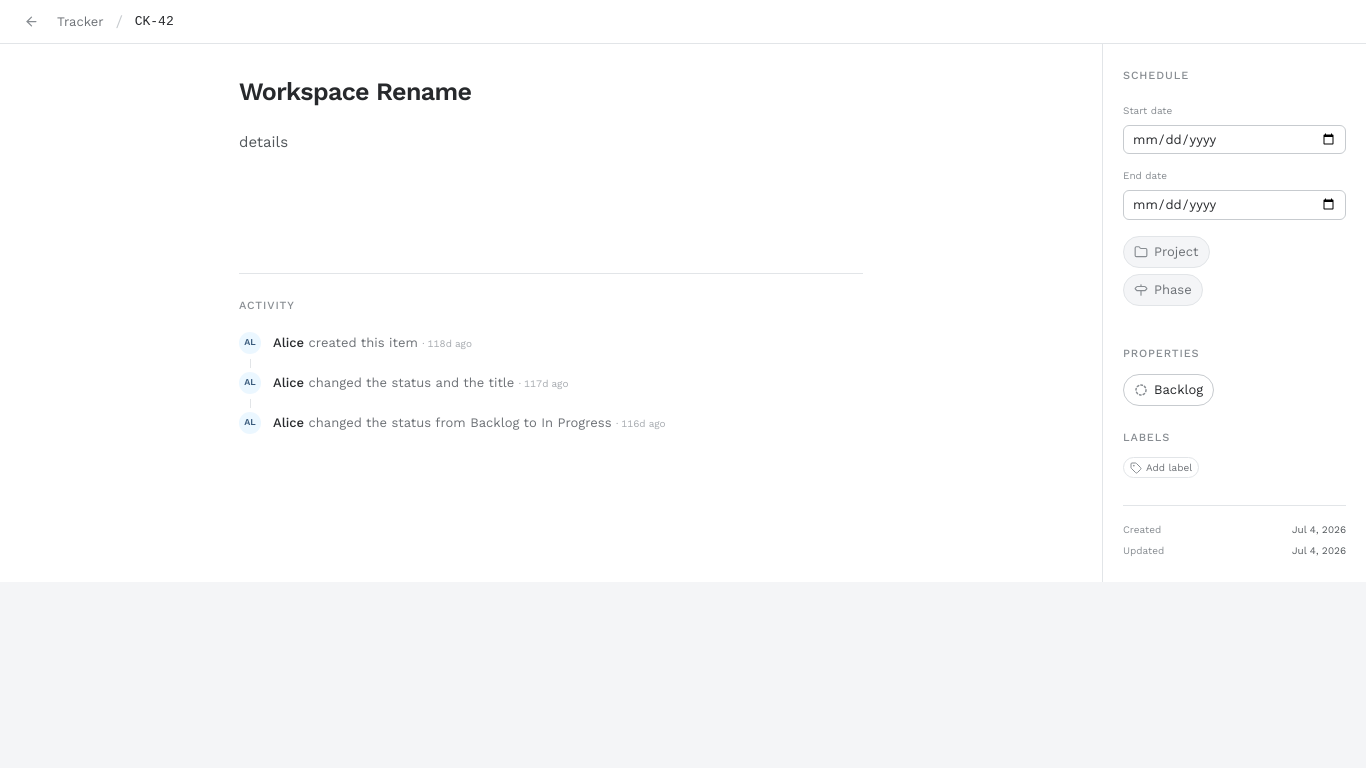
Test: TrackerDetailPage dates and project/phase pickers › surfaces inverted date range validation inline instead of a connection toast
Expected: the 1st text box showing "Workspace Rename" is shown, [239,76,863,107]
Type "2026-09-30" into the date field labelled "Start date" at (1234, 139), box [1123,124,1346,154]
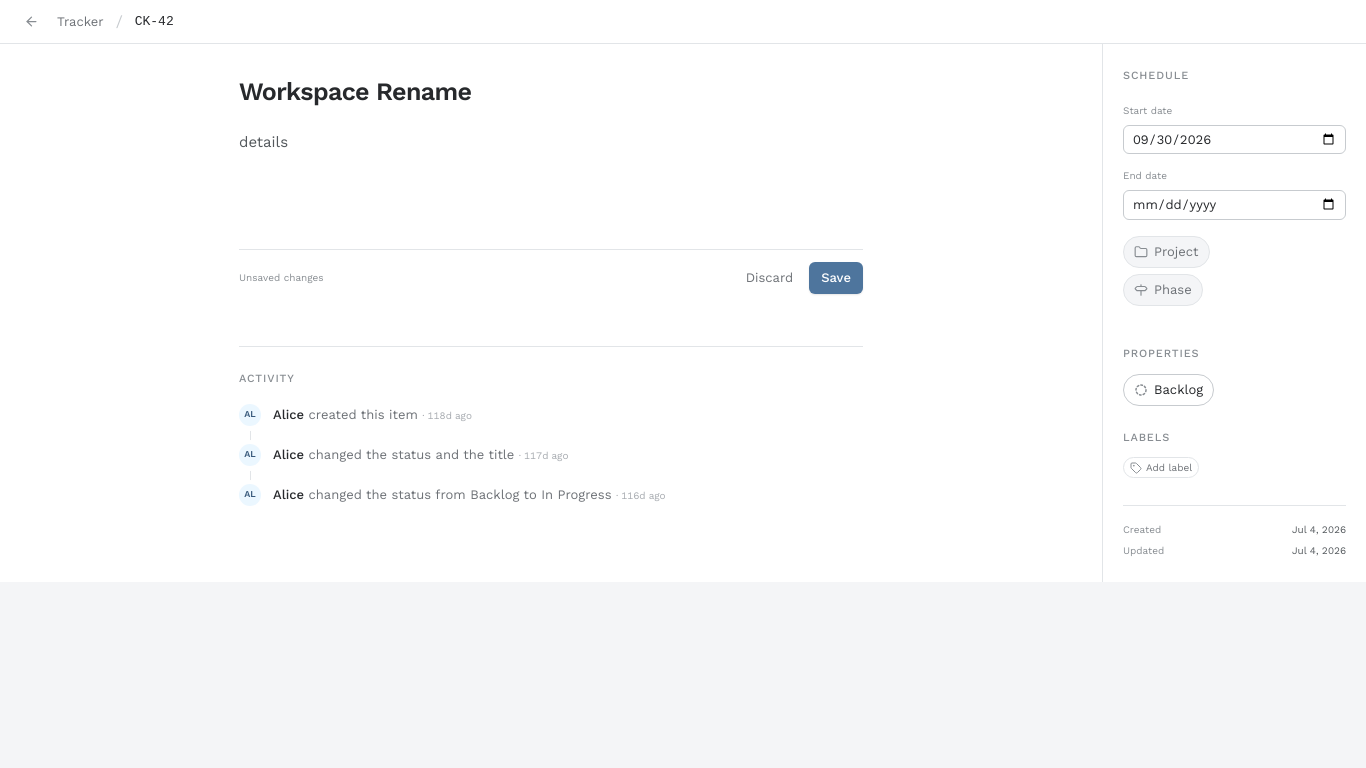
Type "2026-09-21" into the date field labelled "End date" at (1234, 205), box [1123,190,1346,220]
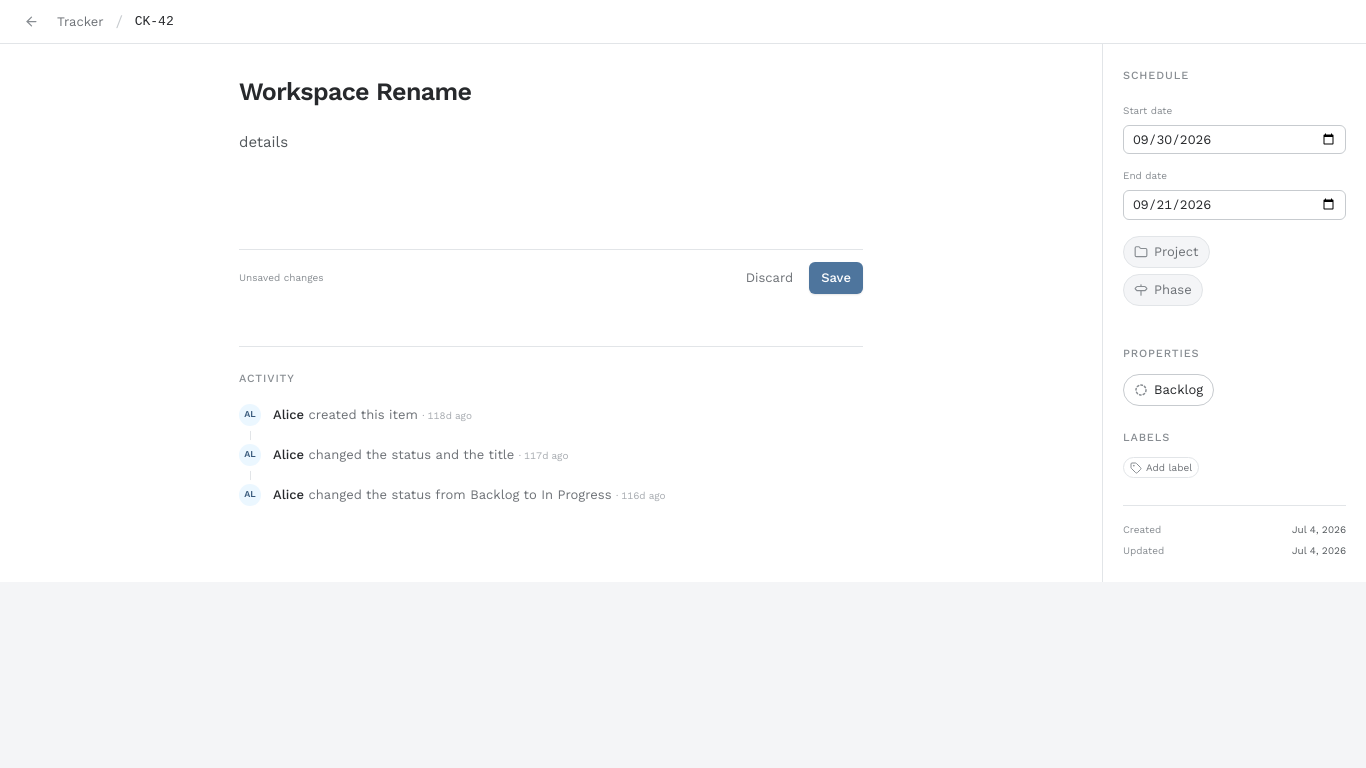
Click the button "Save" at (836, 278), box [809,262,863,294]
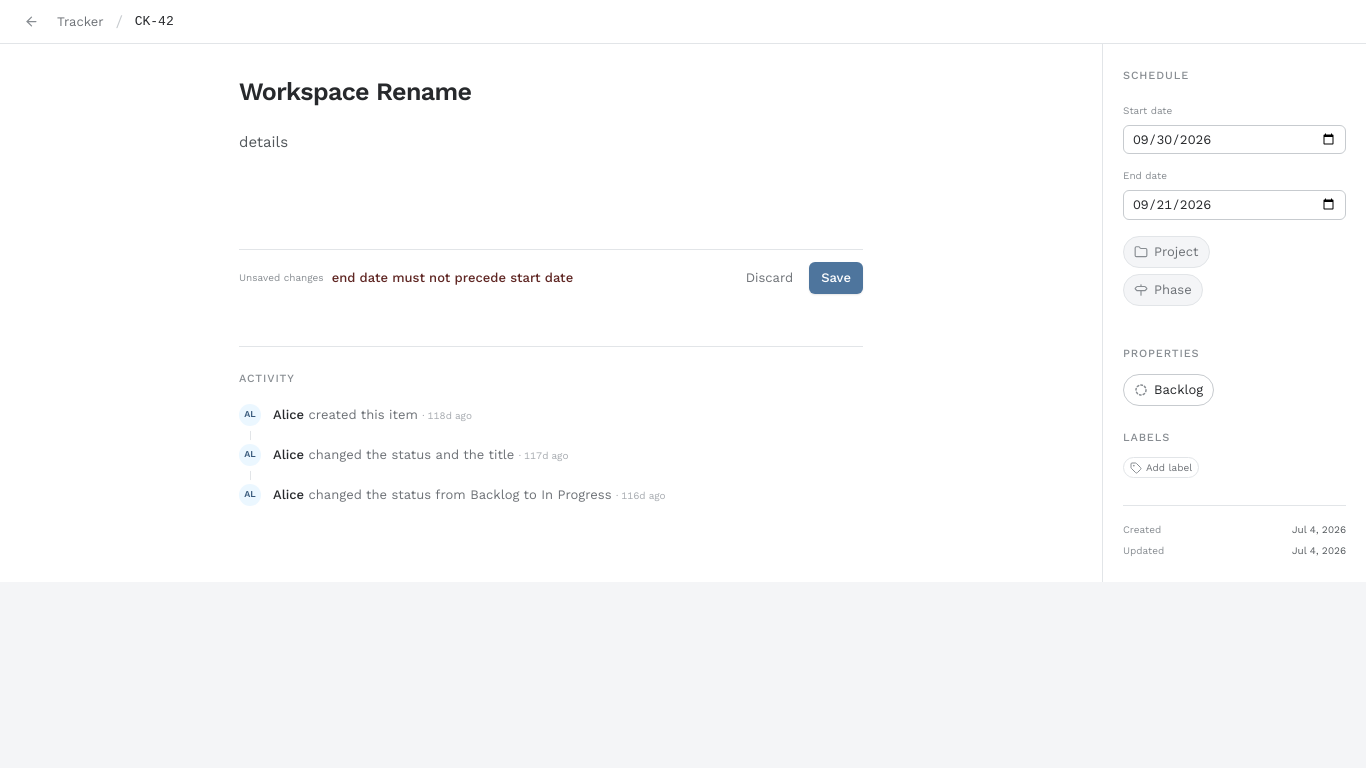
Expected: the text "end date must not precede start date" is shown, [332,268,573,288]
